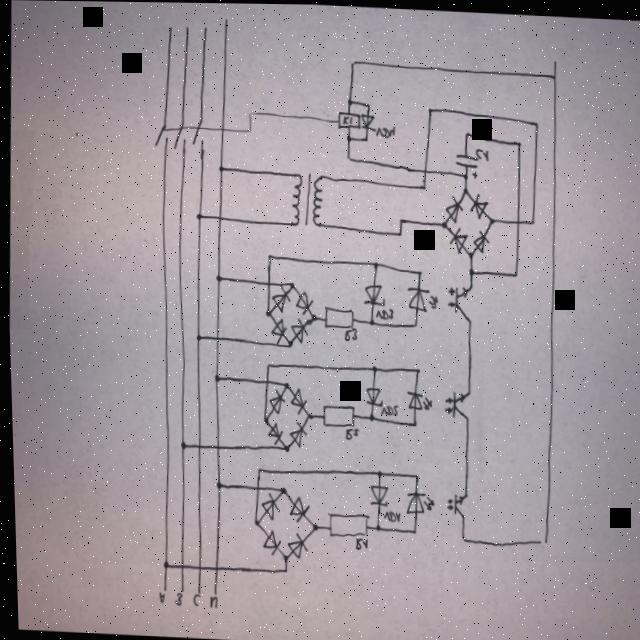capacitor: (451, 151, 478, 178)
crossover: (213, 211, 222, 223), (261, 375, 269, 387), (263, 277, 271, 289), (174, 559, 182, 570), (191, 561, 199, 572), (208, 562, 216, 573), (192, 441, 200, 452), (210, 441, 218, 452), (250, 482, 258, 493), (210, 331, 218, 342), (420, 164, 428, 175), (512, 215, 520, 226)
diode: (282, 531, 306, 559), (285, 494, 308, 523), (256, 492, 278, 521), (268, 284, 290, 313), (257, 527, 278, 556), (446, 225, 467, 254), (360, 282, 385, 306), (442, 194, 462, 223), (467, 190, 487, 219), (287, 385, 305, 415), (287, 316, 307, 343), (292, 288, 312, 315), (285, 420, 304, 447), (264, 387, 282, 415), (365, 483, 386, 506), (267, 317, 284, 345), (470, 228, 488, 254), (361, 386, 381, 407), (263, 421, 281, 444), (360, 112, 375, 130)
junction: (534, 534, 544, 546), (280, 380, 289, 391), (261, 361, 270, 372), (278, 552, 287, 562), (372, 469, 381, 479), (409, 471, 418, 481), (158, 558, 166, 569), (212, 478, 220, 489), (176, 440, 184, 451), (209, 372, 217, 383), (192, 332, 200, 343), (249, 516, 257, 527), (258, 414, 266, 425), (280, 442, 288, 453), (303, 410, 311, 421), (344, 152, 352, 163), (278, 565, 286, 575), (277, 487, 285, 497), (308, 522, 316, 532), (252, 465, 260, 475), (370, 522, 378, 532), (406, 525, 414, 535), (365, 412, 373, 422), (368, 364, 376, 374), (286, 281, 294, 291), (264, 252, 272, 262), (409, 319, 417, 329), (395, 215, 403, 225), (460, 171, 468, 181), (462, 129, 470, 139), (487, 215, 495, 225), (438, 219, 446, 229), (262, 307, 269, 318), (343, 132, 350, 143), (344, 96, 351, 107), (514, 138, 521, 149), (408, 417, 415, 427), (411, 366, 418, 376), (213, 272, 220, 282), (284, 338, 291, 348), (308, 312, 315, 322), (194, 210, 201, 220), (216, 163, 223, 173), (365, 316, 372, 326), (415, 267, 422, 277), (370, 259, 377, 269), (395, 228, 402, 238), (418, 181, 425, 191), (360, 134, 367, 144), (364, 101, 371, 111), (349, 58, 356, 68), (550, 70, 557, 80), (532, 118, 539, 128), (425, 105, 432, 115), (527, 215, 534, 225), (462, 186, 469, 196), (510, 267, 517, 277), (465, 250, 472, 260), (465, 267, 472, 277), (456, 533, 463, 543), (462, 388, 469, 397), (465, 283, 472, 292), (457, 511, 463, 520), (459, 489, 465, 498), (462, 414, 468, 423), (464, 318, 470, 327)
resistor: (323, 511, 367, 538), (319, 403, 353, 428), (321, 305, 353, 329)
switch: (171, 118, 187, 152), (152, 120, 169, 148), (189, 116, 204, 146)
terminal: (166, 23, 173, 33), (201, 23, 208, 33), (222, 16, 229, 26), (158, 584, 164, 594), (175, 584, 181, 594), (192, 586, 198, 596), (208, 588, 214, 598), (183, 23, 189, 33)
text: (374, 124, 395, 137), (373, 306, 391, 320), (377, 402, 395, 415), (379, 509, 398, 521), (341, 327, 355, 341), (474, 147, 488, 161), (352, 536, 365, 550), (342, 426, 356, 439), (340, 113, 352, 125), (204, 595, 214, 609), (170, 591, 179, 606), (189, 593, 197, 607), (155, 592, 161, 604)
transformer: (286, 170, 327, 230)
